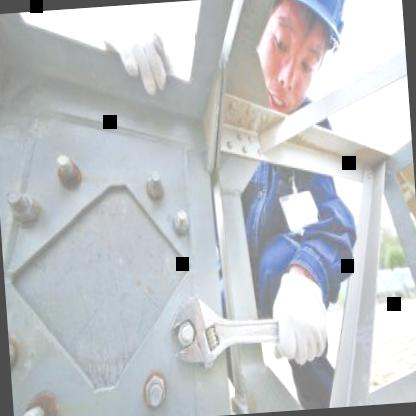helmet: (245, 0, 363, 123)
